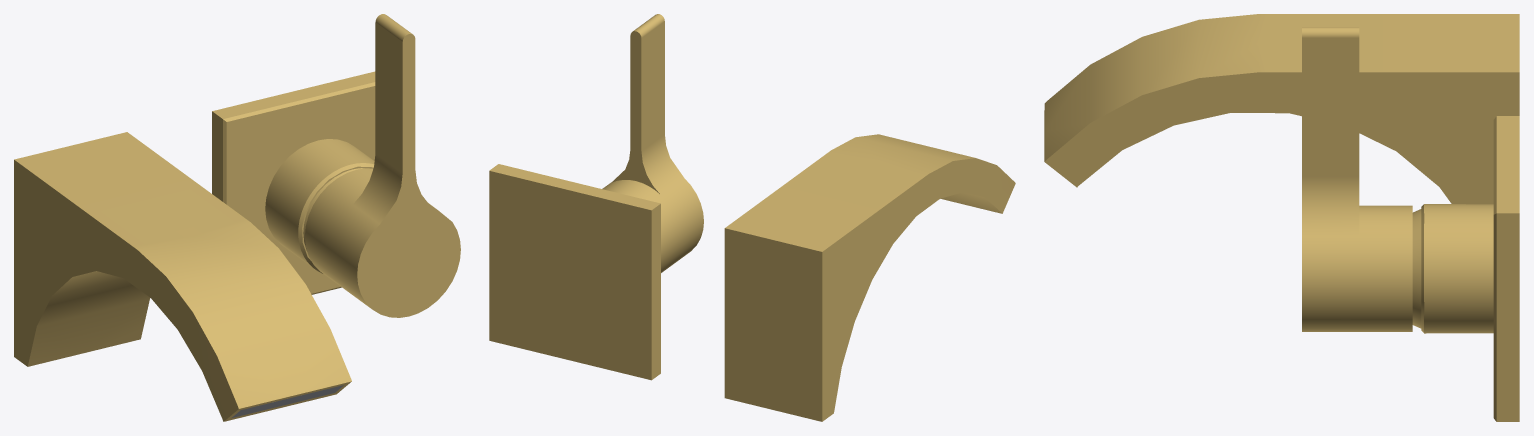
3 renders of one model, left to right at view 1: azimuth 30°, elevation 25°; view 2: azimuth 150°, elevation 25°; view 3: azimuth 270°, elevation 25°, orthographic. The views are drawn at different scales.
Parts seen in each view (by area): view 1: L_89ed23ff_7257_4f8e_8448_b50cb2aa9b0f_I3, L_928a727d_b490_44d4_9528_7d3cccf2d2c7_I4, L_e762c9f9_117b_4ea6_9dad_26d7e7ed9bc8_I6, L_c2266ba6_3cfb_489b_acec_95be93e11fa8_I5, L_02e41cbb_ec39_4ad6_bd15_9f65e2306764_I1; view 2: L_89ed23ff_7257_4f8e_8448_b50cb2aa9b0f_I3, L_e762c9f9_117b_4ea6_9dad_26d7e7ed9bc8_I6, L_928a727d_b490_44d4_9528_7d3cccf2d2c7_I4; view 3: L_89ed23ff_7257_4f8e_8448_b50cb2aa9b0f_I3, L_928a727d_b490_44d4_9528_7d3cccf2d2c7_I4, L_c2266ba6_3cfb_489b_acec_95be93e11fa8_I5, L_e762c9f9_117b_4ea6_9dad_26d7e7ed9bc8_I6, L_39e64315_0de5_4fbe_98ba_65e3bbbd578a_I2.
Part boxes in pixels (<box>): L_89ed23ff_7257_4f8e_8448_b50cb2aa9b0f_I3: <box>14,132,351,421</box>; L_928a727d_b490_44d4_9528_7d3cccf2d2c7_I4: <box>305,14,460,317</box>; L_e762c9f9_117b_4ea6_9dad_26d7e7ed9bc8_I6: <box>212,71,375,294</box>; L_c2266ba6_3cfb_489b_acec_95be93e11fa8_I5: <box>265,139,374,273</box>; L_02e41cbb_ec39_4ad6_bd15_9f65e2306764_I1: <box>232,385,343,417</box>; L_89ed23ff_7257_4f8e_8448_b50cb2aa9b0f_I3: <box>724,134,1015,421</box>; L_e762c9f9_117b_4ea6_9dad_26d7e7ed9bc8_I6: <box>489,164,660,380</box>; L_928a727d_b490_44d4_9528_7d3cccf2d2c7_I4: <box>602,14,703,272</box>; L_89ed23ff_7257_4f8e_8448_b50cb2aa9b0f_I3: <box>1044,14,1519,204</box>; L_928a727d_b490_44d4_9528_7d3cccf2d2c7_I4: <box>1302,27,1412,331</box>; L_c2266ba6_3cfb_489b_acec_95be93e11fa8_I5: <box>1421,204,1493,333</box>; L_e762c9f9_117b_4ea6_9dad_26d7e7ed9bc8_I6: <box>1493,116,1519,421</box>; L_39e64315_0de5_4fbe_98ba_65e3bbbd578a_I2: <box>1412,209,1421,328</box>.
Bounding box in the file's own units: 0.164 × 0.1325 × 0.1651.
